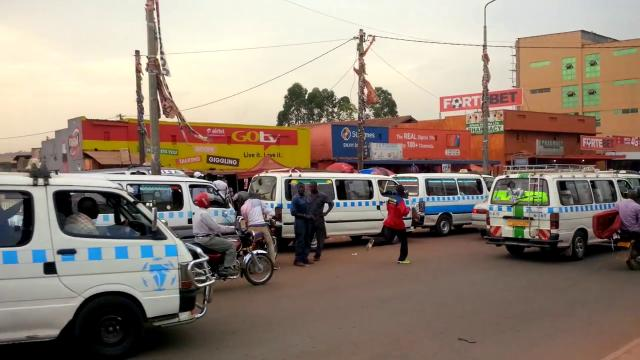motorcycle: (178, 192, 276, 290)
van: (0, 170, 212, 354), (74, 168, 242, 237), (487, 161, 603, 259), (277, 170, 396, 248), (375, 171, 489, 238)
